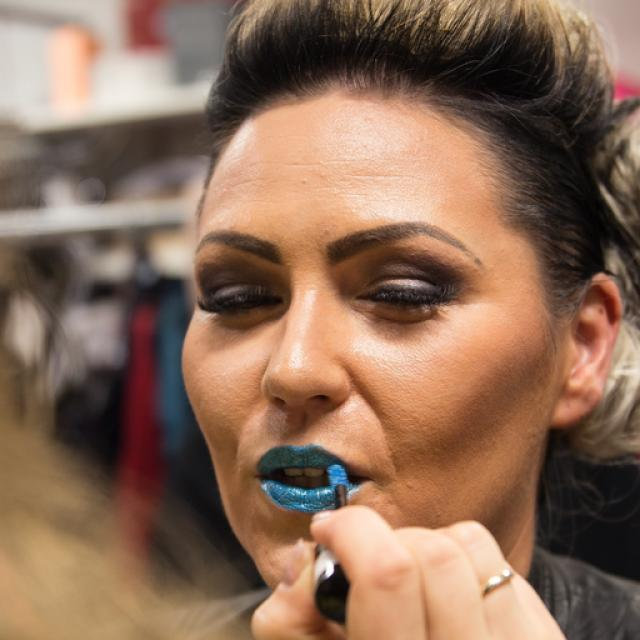neutral: (178, 79, 554, 632)
